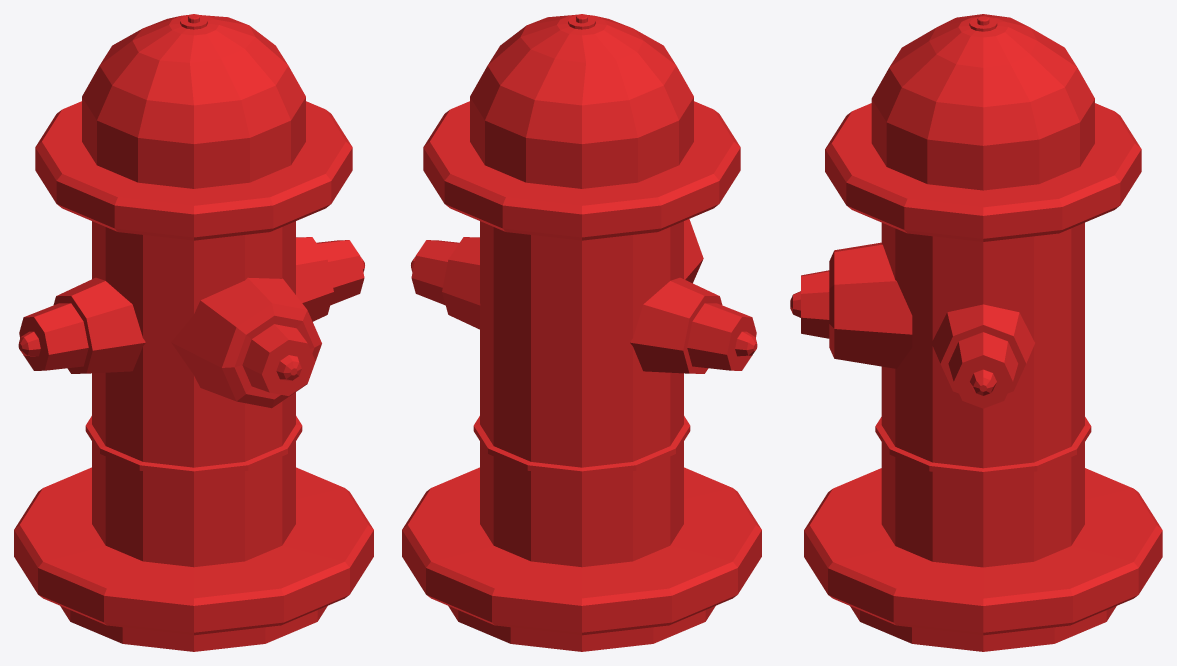
The model's file is firehydrant.fbx.
The picture shows the model from 3 angles, left to right: view 1: azimuth 30°, elevation 25°; view 2: azimuth 150°, elevation 25°; view 3: azimuth 270°, elevation 25°; orthographic projection.
Visible parts, largest first — view 1: Circle.002; view 2: Circle.002; view 3: Circle.002.
Boxes of the visible parts, bbox=[...] form: Circle.002: bbox=[14, 14, 373, 651]; Circle.002: bbox=[402, 14, 761, 651]; Circle.002: bbox=[790, 14, 1162, 651].
Bounding box in the file's own units: 105 × 111 × 179.
